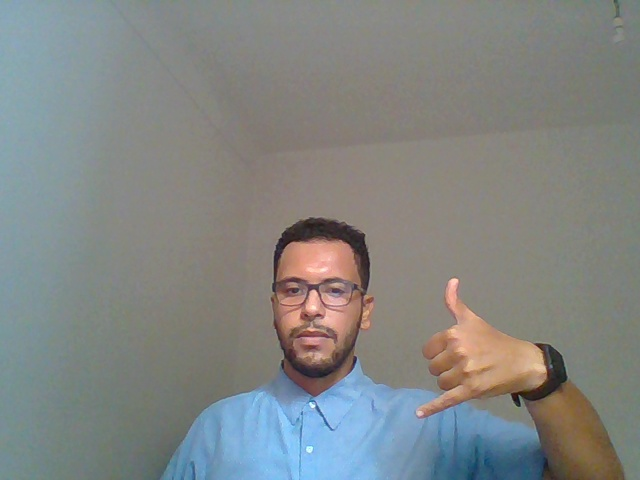callme: (396, 235, 562, 463)
